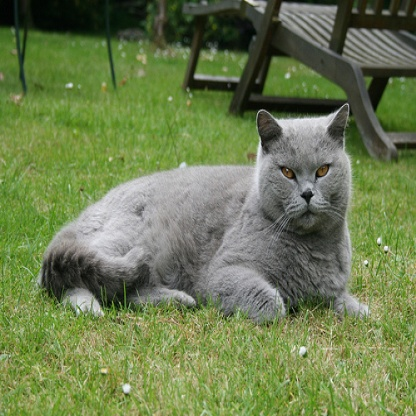british_shorthair: (40, 103, 369, 319)
